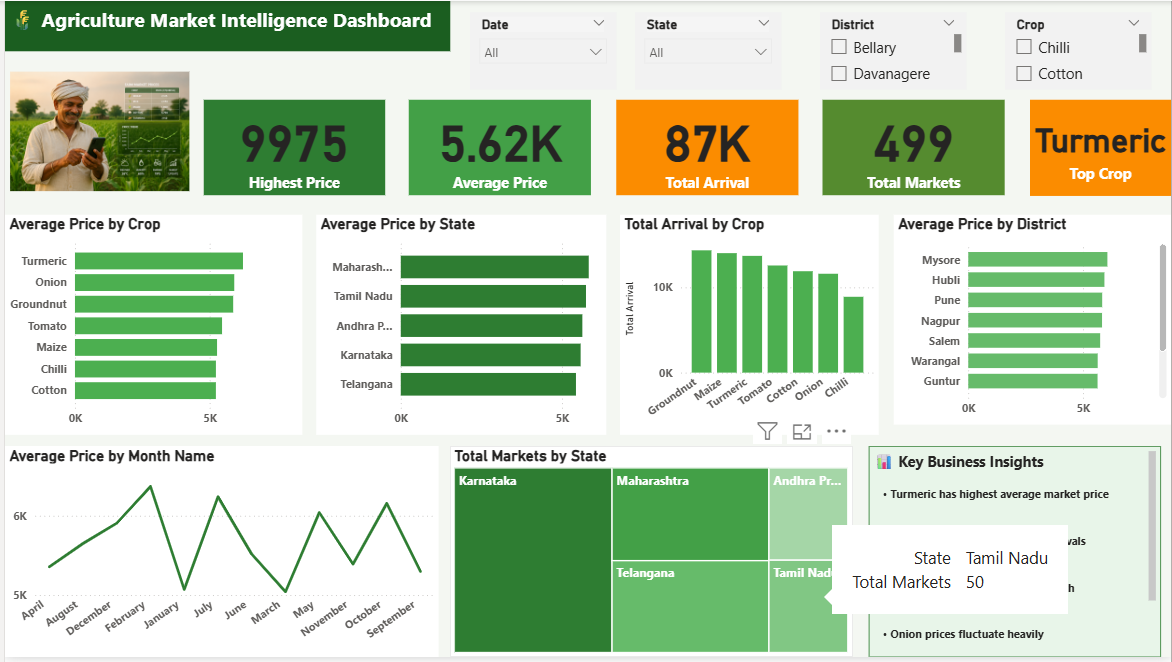

The page's visual inventory and layout, read from the dashboard file:
{"tool":"powerbi","page":{"name":"Page 1","canvas":[1280,720],"ordinal":0},"visuals":[{"type":"card","fields":{"Values":["Agriculture_Market.Average Price"]},"box":[443.8,108.9,200.3,105],"z":0},{"type":"card","fields":{"Values":["Agriculture_Market.Total Arrival"]},"box":[671,108.9,200.3,105],"z":1000},{"type":"card","fields":{"Values":["Agriculture_Market.Highest Price"]},"box":[218.1,108.9,199,105],"z":2000},{"type":"card","fields":{"Values":["Agriculture_Market.Total Markets"]},"box":[898.1,108.9,200.3,105],"z":3000},{"type":"lineChart","fields":{"Y":["Agriculture_Market.Average Price"],"Category":["Agriculture_Market.Month Name"]},"box":[0,488.5,476.2,231.9],"z":4000},{"type":"barChart","fields":{"Category":["Agriculture_Market.Crop"],"Y":["Agriculture_Market.Average Price"]},"box":[0,234.6,326.6,241.5],"z":5000},{"type":"clusteredBarChart","fields":{"Category":["Agriculture_Market.District"],"Y":["Agriculture_Market.Average Price"]},"box":[975.6,234.6,304.6,230.5],"z":6000},{"type":"columnChart","fields":{"Category":["Agriculture_Market.Crop"],"Y":["Agriculture_Market.Total Arrival"]},"box":[675.1,234.6,284,241.5],"z":7000},{"type":"slicer","fields":{"Values":["Agriculture_Market.District"]},"box":[894.7,12.3,160.5,85.1],"z":8000},{"type":"slicer","fields":{"Values":["Agriculture_Market.State"]},"box":[691.6,12.3,160.5,85.1],"z":9000},{"type":"slicer","fields":{"Values":["Agriculture_Market.Date"]},"box":[510.5,12.3,160.5,85.1],"z":10000},{"type":"slicer","fields":{"Values":["Agriculture_Market.Crop"]},"box":[1097.8,12.3,160.5,85.1],"z":11000},{"type":"textbox","box":[948.2,488.5,321.1,231.9],"z":12000},{"type":"textbox","box":[0,0,488.5,54.9],"z":13000},{"type":"clusteredBarChart","fields":{"Category":["Agriculture_Market.State"],"Y":["Agriculture_Market.Average Price"]},"box":[341.7,234.6,318.4,241.5],"z":14000},{"type":"treemap","fields":{"Group":["Agriculture_Market.State"],"Values":["Agriculture_Market.Total Markets"]},"box":[488.5,488.5,441.9,231.9],"z":15000},{"type":"image","box":[0,72.7,207.2,141.3],"z":16000},{"type":"card","fields":{"Values":["Agriculture_Market.Top Crop"]},"box":[1124.9,108.5,155.1,105.7],"z":17000}]}

Visuals, with their boxes in screenshot pixels (x1, y1, x2, y2), scaled from the page's 1280x720 canvas onto the 1172x662 screenshot:
card - Agriculture_Market.Average Price: box=[406, 100, 590, 197]
card - Agriculture_Market.Total Arrival: box=[614, 100, 798, 197]
card - Agriculture_Market.Highest Price: box=[200, 100, 382, 197]
card - Agriculture_Market.Total Markets: box=[822, 100, 1006, 197]
lineChart - Agriculture_Market.Average Price x Agriculture_Market.Month Name: box=[0, 449, 436, 661]
barChart - Agriculture_Market.Crop x Agriculture_Market.Average Price: box=[0, 216, 299, 438]
clusteredBarChart - Agriculture_Market.District x Agriculture_Market.Average Price: box=[893, 216, 1171, 428]
columnChart - Agriculture_Market.Crop x Agriculture_Market.Total Arrival: box=[618, 216, 878, 438]
slicer - Agriculture_Market.District: box=[819, 11, 966, 90]
slicer - Agriculture_Market.State: box=[633, 11, 780, 90]
slicer - Agriculture_Market.Date: box=[467, 11, 614, 90]
slicer - Agriculture_Market.Crop: box=[1005, 11, 1152, 90]
textbox: box=[868, 449, 1162, 661]
textbox: box=[0, 0, 447, 50]
clusteredBarChart - Agriculture_Market.State x Agriculture_Market.Average Price: box=[313, 216, 604, 438]
treemap - Agriculture_Market.State x Agriculture_Market.Total Markets: box=[447, 449, 852, 661]
image: box=[0, 67, 190, 197]
card - Agriculture_Market.Top Crop: box=[1030, 100, 1171, 197]
